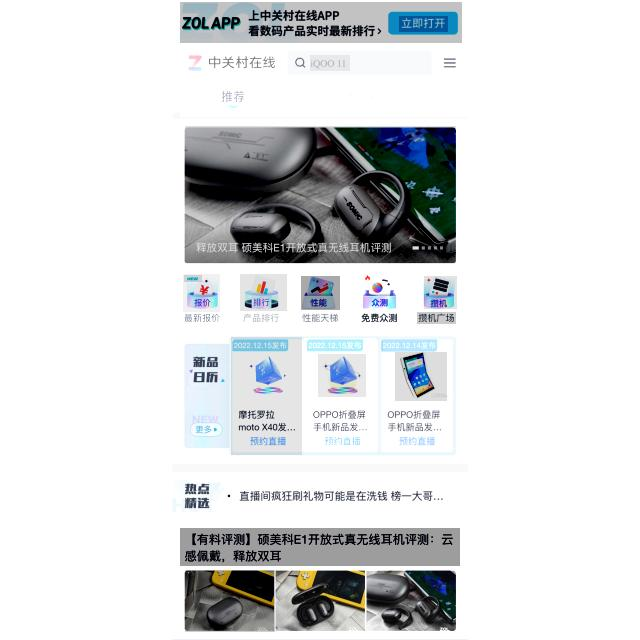CheckBox: (389, 10, 459, 36)
CheckedTextView: (286, 49, 434, 76)
ImageView: (180, 2, 462, 43)
RadioButton: (306, 338, 364, 352), (232, 339, 290, 352), (383, 339, 438, 351), (184, 275, 202, 282)
Spinner: (379, 336, 454, 452), (231, 337, 302, 455), (304, 338, 376, 452)
accordion: (171, 517, 469, 523)
bag: (180, 46, 471, 117)
breadcrumbs: (180, 528, 460, 566)
card: (185, 126, 456, 263)
carousel: (442, 55, 459, 73), (293, 56, 308, 70)
content: (395, 352, 447, 401), (318, 354, 366, 397), (245, 357, 293, 397), (240, 274, 287, 311), (183, 274, 220, 312), (302, 276, 342, 310), (362, 274, 399, 310), (424, 276, 457, 309)
copy: (367, 569, 457, 632), (185, 570, 275, 632), (276, 570, 366, 632)
data feed: (399, 16, 448, 32), (182, 312, 224, 324), (418, 312, 458, 324), (302, 312, 341, 324), (242, 313, 283, 324), (360, 312, 399, 322)
date picker: (184, 52, 205, 74)
decoration: (180, 88, 470, 113), (438, 52, 462, 76)
footer: (310, 55, 350, 71)
